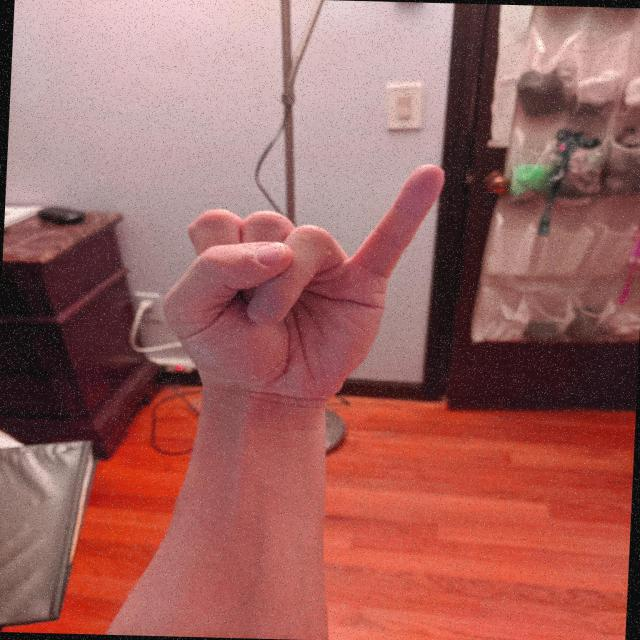I: (148, 151, 453, 413)
